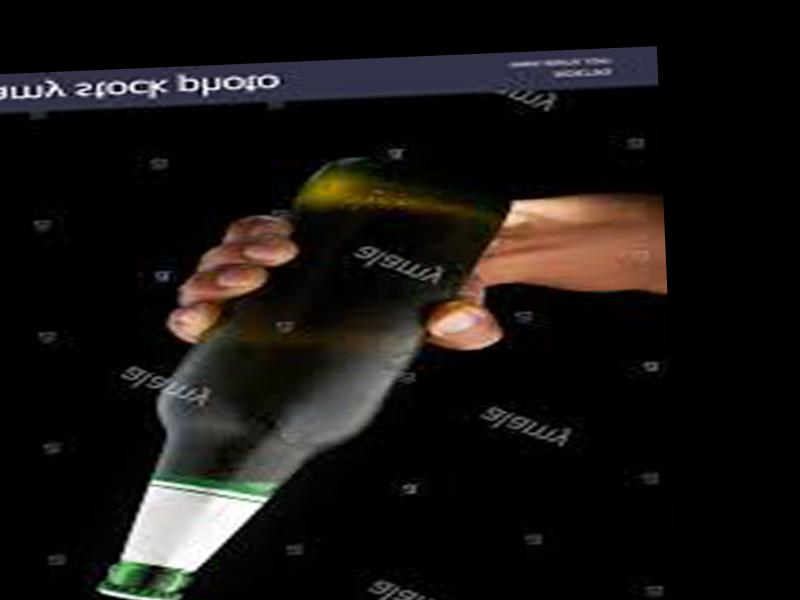Beer: (74, 146, 527, 600)
